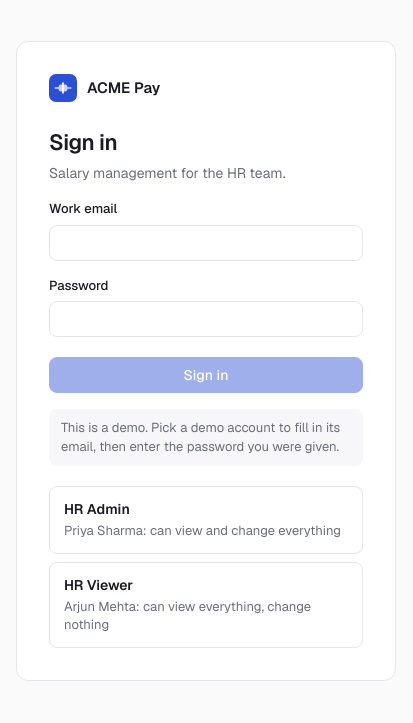
Scenario: Sign in › says when the email and password do not match
The width and height of the screenshot is (413, 723).
In the field labelled "Work email": [206, 243] box [49,225,363,261], type "priya.sharma@acme.example"
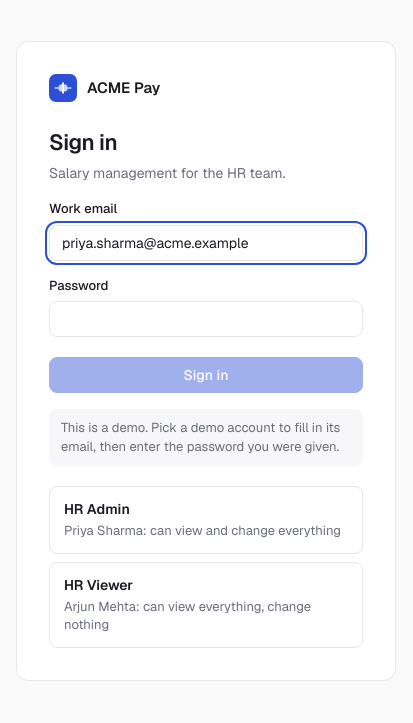
In the password field labelled "Password": [206, 319] box [49,301,363,337], type "wrong"
Then press Enter
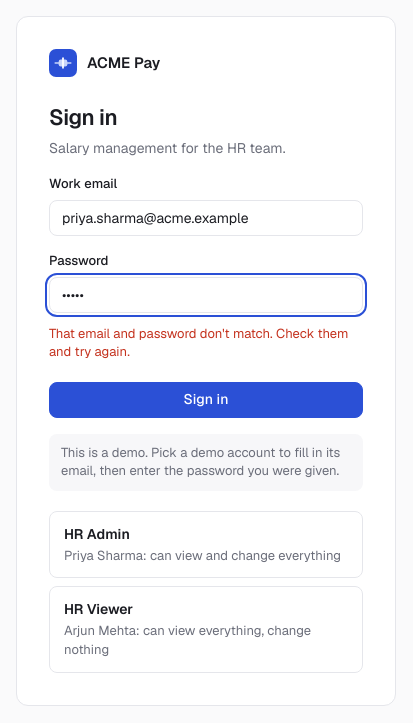
Check: the message shows "That email and password don't match.", box [49,325,348,360]
